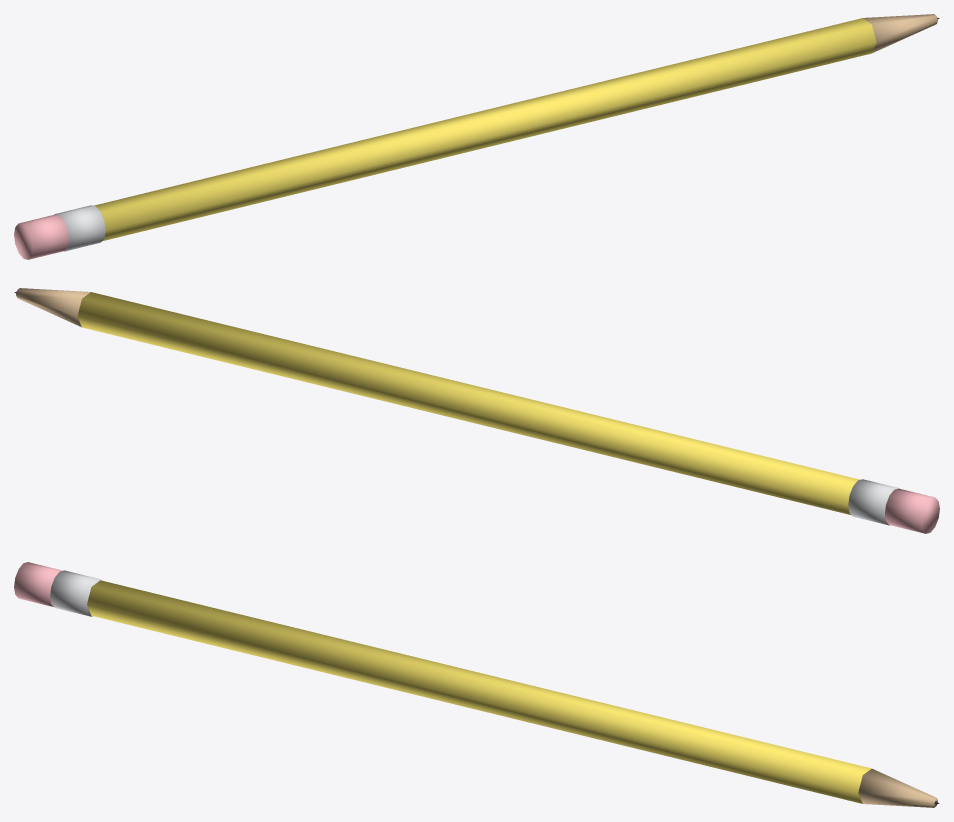
Rendered from pencil.glb.
The picture shows the model from 3 angles, top to bottom: view 1: azimuth 30°, elevation 25°; view 2: azimuth 150°, elevation 25°; view 3: azimuth 330°, elevation 25°; orthographic projection.
Visible parts, largest first — view 1: pencil_body, pencil_eraser, pencil_wood, pencil_ferrule; view 2: pencil_body, pencil_eraser, pencil_wood, pencil_ferrule; view 3: pencil_body, pencil_wood, pencil_ferrule, pencil_eraser.
Part boxes in pixels (<box>): pencil_body: <box>94,18,876,241</box>; pencil_eraser: <box>14,214,68,259</box>; pencil_wood: <box>863,14,937,53</box>; pencil_ferrule: <box>54,205,105,251</box>; pencil_body: <box>77,292,859,515</box>; pencil_eraser: <box>885,488,939,533</box>; pencil_wood: <box>16,288,90,327</box>; pencil_ferrule: <box>848,479,899,525</box>; pencil_body: <box>87,580,871,803</box>; pencil_wood: <box>858,768,937,807</box>; pencil_ferrule: <box>50,570,101,616</box>; pencil_eraser: <box>14,562,62,606</box>.
Bounding box in the file's own units: 0.202 × 0.0074 × 0.0074.
